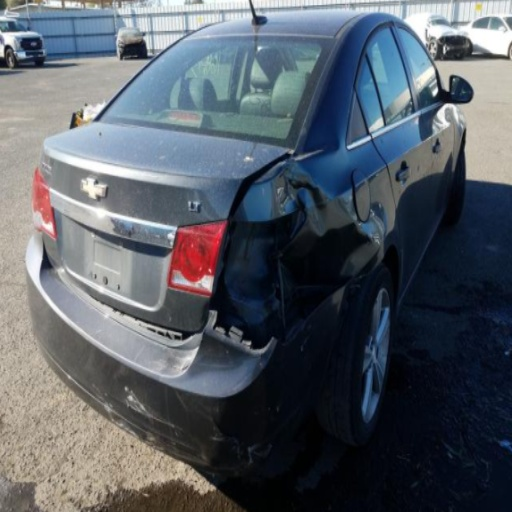dent: (221, 156, 389, 341)
scratch: (124, 388, 176, 428), (277, 255, 290, 335), (274, 178, 298, 217), (211, 428, 241, 458), (248, 446, 272, 464), (371, 209, 382, 231), (103, 402, 119, 416), (353, 213, 362, 225), (372, 234, 380, 246), (378, 204, 382, 209)
